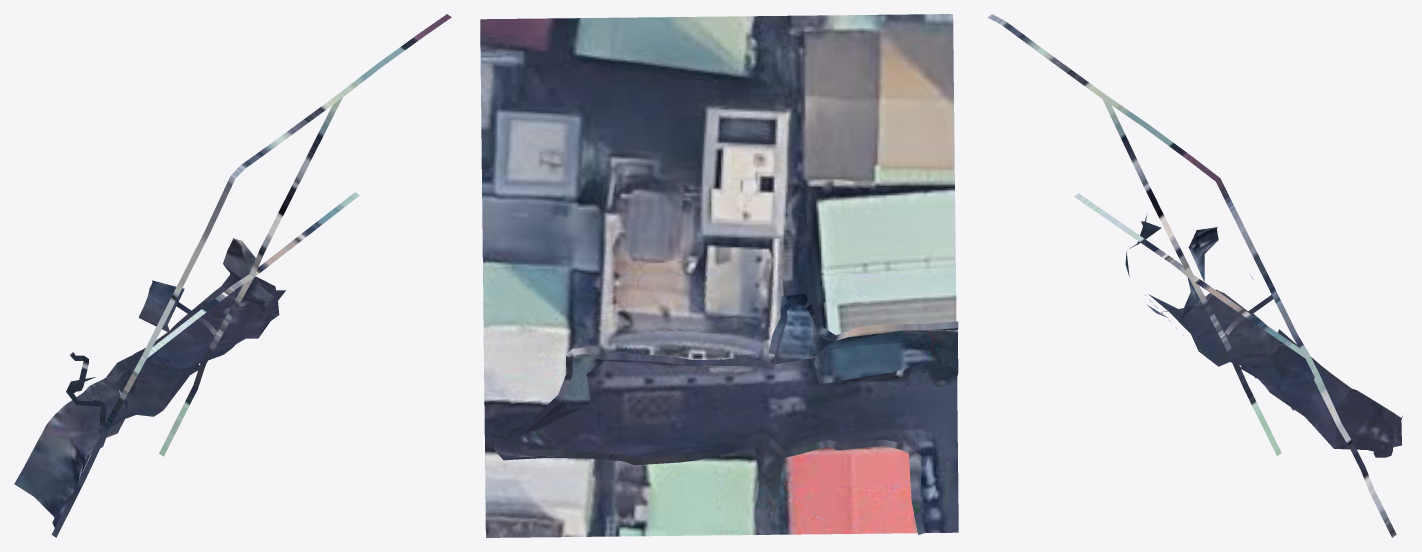
3 views of the same model, side by side, from view 1: azimuth 30°, elevation 25°; view 2: azimuth 150°, elevation 25°; view 3: azimuth 270°, elevation 25° (orthographic). The views are drawn at different scales.
Size of the model in its own units: 38.58 by 34.94 by 32.66.
Materials: 1 (1 with a texture image).
